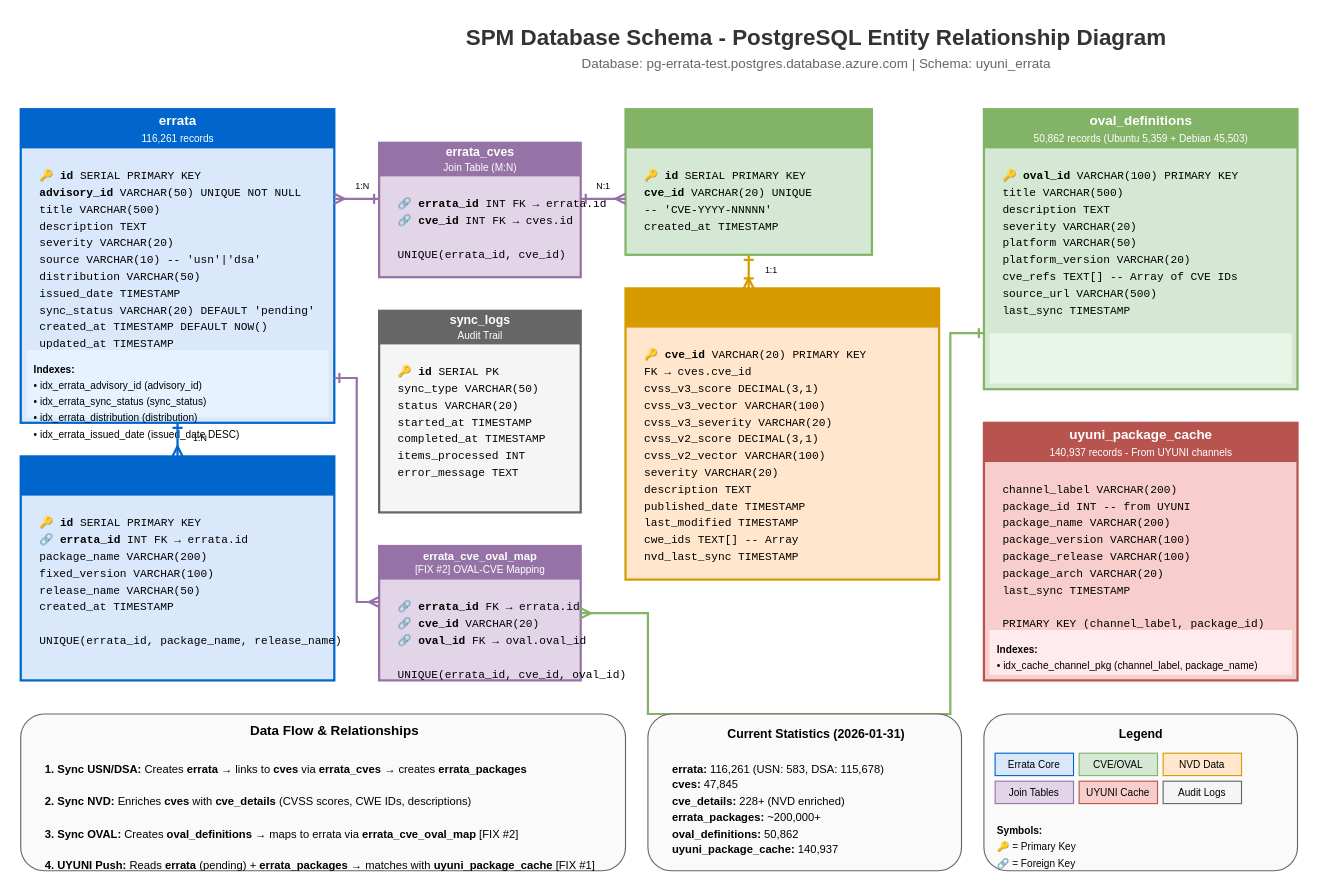
The diagram is 1317 pixels wide and 893 high, and some of its shapes have lost their labels. Here are the shapes that lost their labels. From the top down, the centre of each, then its label:
the point at 748,128: cves 47,845 records
the point at 782,307: cve_details NVD Enrichment Data
the point at 1140,358: Indexes: • idx_oval_platform (platform) • idx_oval_cve_refs (cve_refs) GIN
the point at 177,475: errata_packages Package-Errata Association
